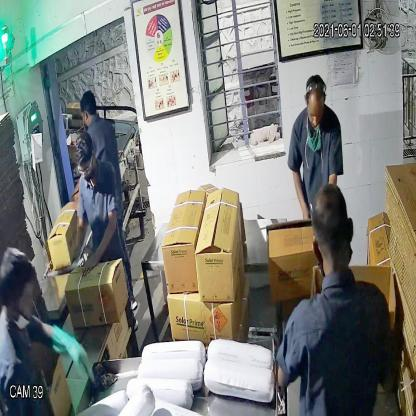goggles: (73, 159, 97, 180)
